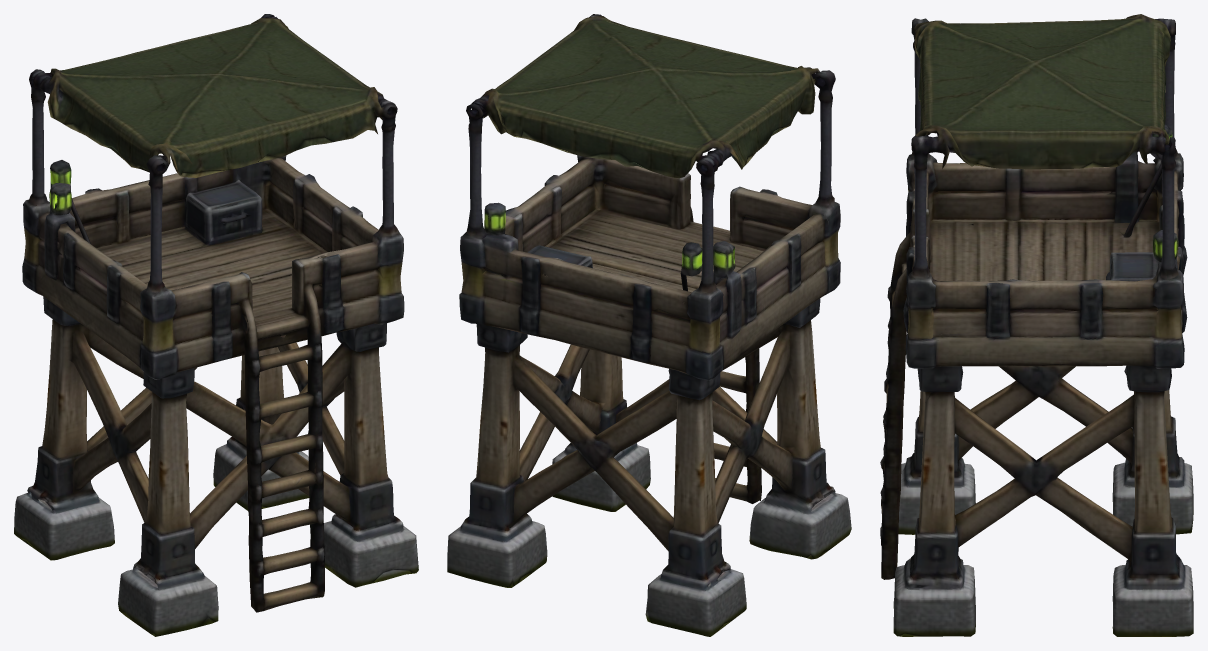
Rendered from watchtower_l01.glb.
The picture shows the model from 3 angles, left to right: view 1: azimuth 30°, elevation 25°; view 2: azimuth 150°, elevation 25°; view 3: azimuth 270°, elevation 25°; orthographic projection. The views are drawn at different scales.
Parts seen in each view (by area): view 1: world; view 2: world; view 3: world.
Boxes of the visible parts, x1=… form: world: x1=14, y1=14, x2=418, y2=636; world: x1=447, y1=14, x2=851, y2=636; world: x1=880, y1=14, x2=1193, y2=636.
Bounding box in the file's own units: 0.5781 × 1 × 0.5625.
Materials: 1 (1 with a texture image).
